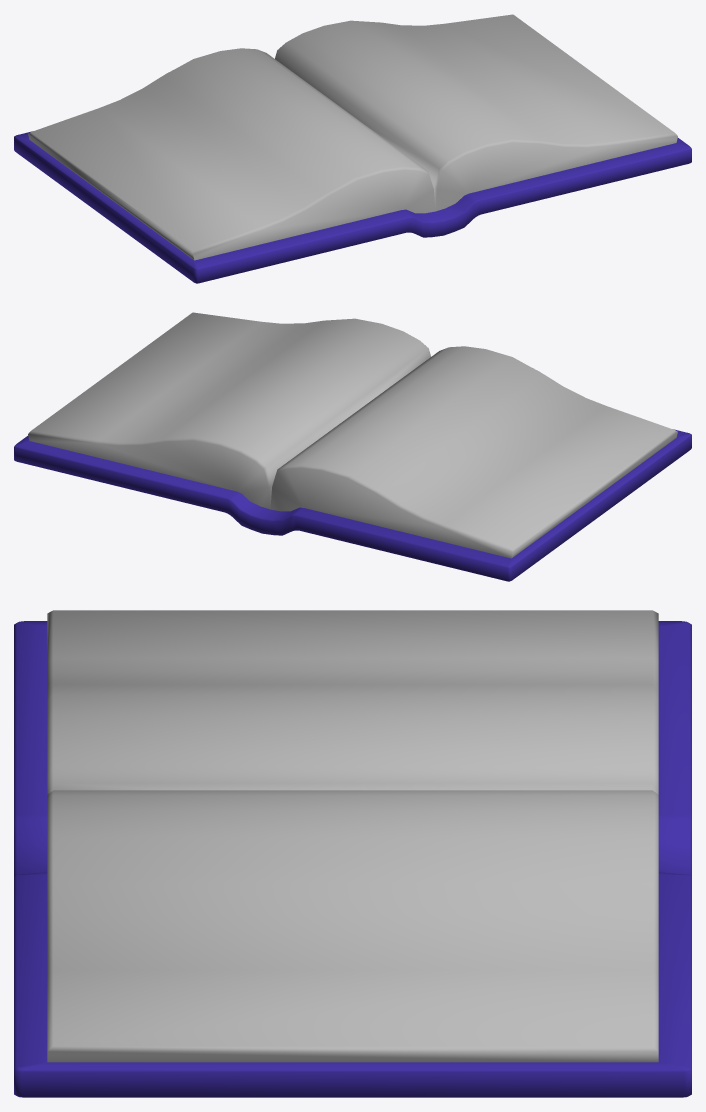
Rendered from Book_Open.fbx.
The picture shows the model from 3 angles, top to bottom: view 1: azimuth 30°, elevation 25°; view 2: azimuth 150°, elevation 25°; view 3: azimuth 270°, elevation 25°; orthographic projection. The views are drawn at different scales.
Parts seen in each view (by area): view 1: Book_Open; view 2: Book_Open; view 3: Book_Open.
Boxes of the visible parts, <box> form: Book_Open: <box>14,14,691,283</box>; Book_Open: <box>14,312,691,581</box>; Book_Open: <box>14,610,691,1097</box>.
Bounding box in the file's own units: 56.46 × 7.76 × 36.
